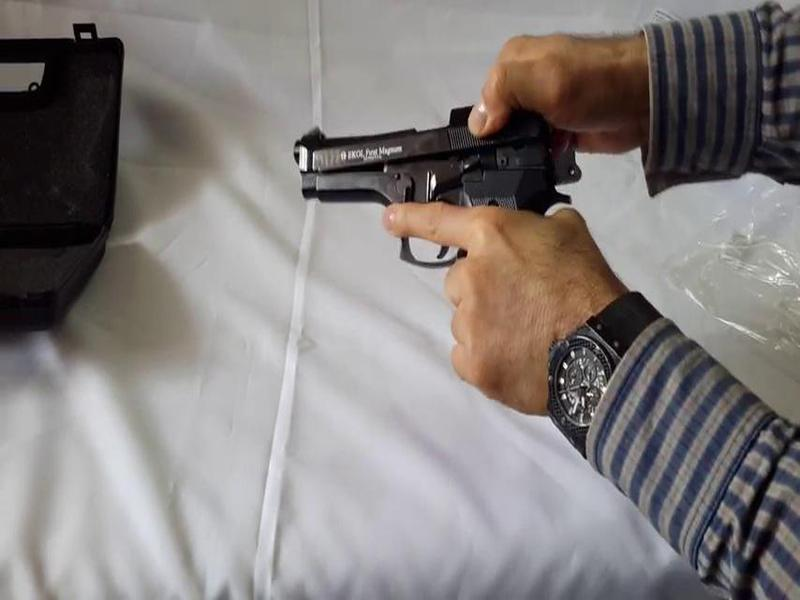Pistola: (290, 78, 588, 363)
